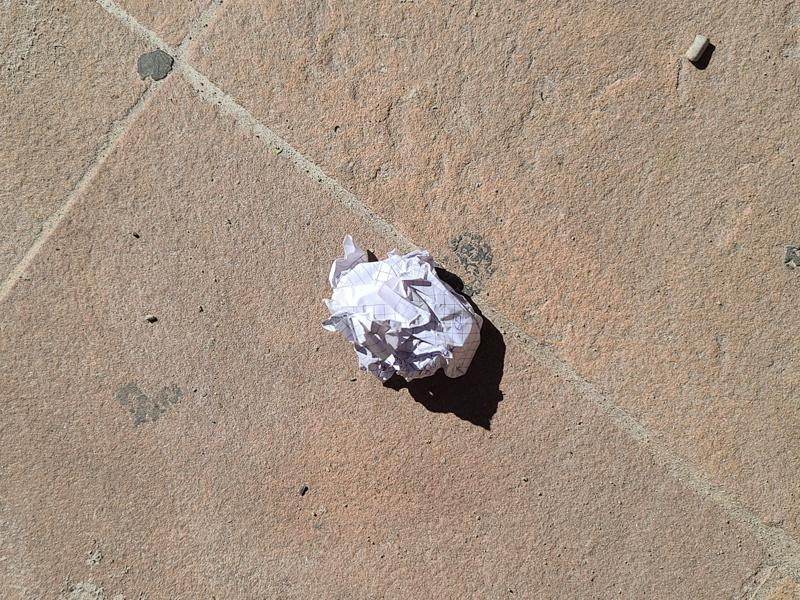papel: (322, 235, 483, 383)
